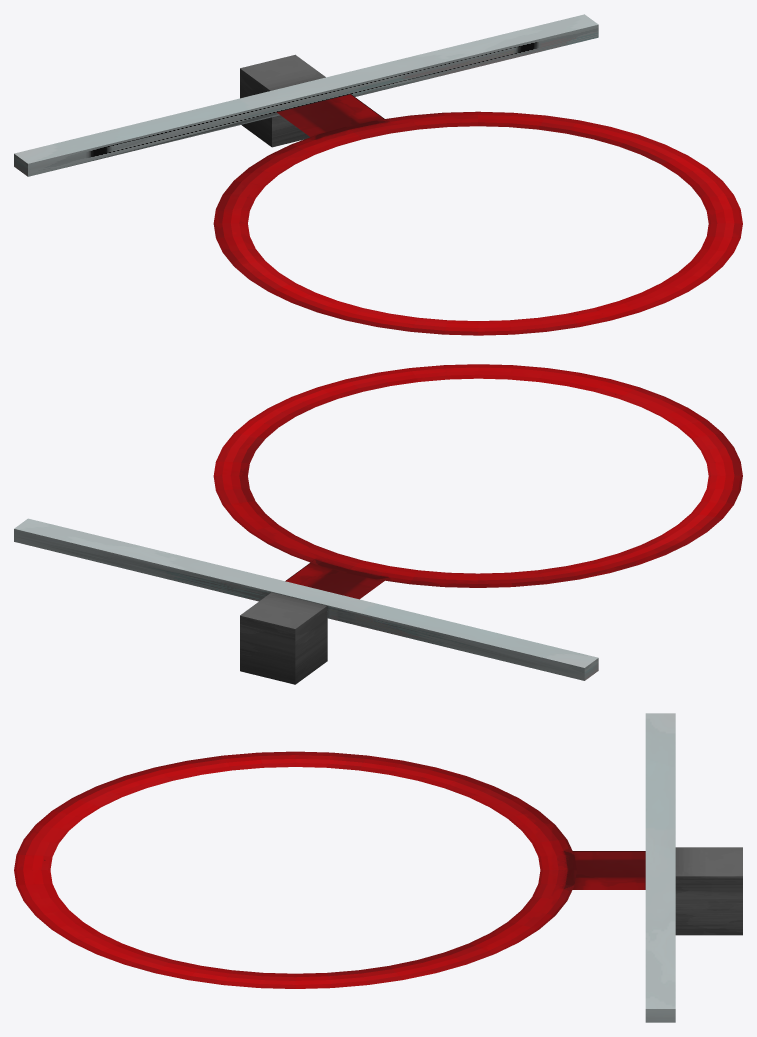
The model's file is pannier_basket.glb.
The picture shows the model from 3 angles, top to bottom: view 1: azimuth 30°, elevation 25°; view 2: azimuth 150°, elevation 25°; view 3: azimuth 270°, elevation 25°; orthographic projection. The views are drawn at different scales.
Visible parts, largest first — view 1: Cube.001; view 2: Cube.001; view 3: Cube.001.
Boxes of the visible parts, x1,y1,x2,y2 form: Cube.001: (14, 14, 742, 335); Cube.001: (14, 364, 742, 684); Cube.001: (14, 713, 742, 1022).
Bounding box in the file's own units: 10.12 × 0.9552 × 10.54.
Materials: 1 (1 with a texture image).
